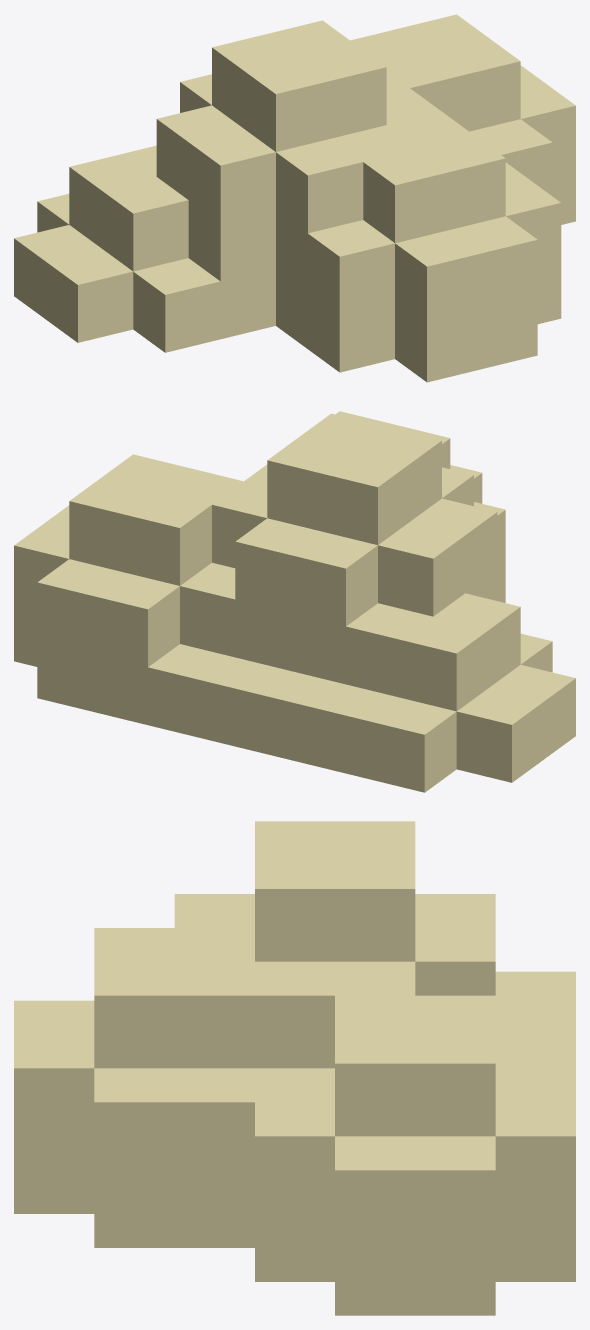
File: Medieval Assets-133-Decoration - Desert Rocks.obj
The picture shows the model from 3 angles, top to bottom: view 1: azimuth 30°, elevation 25°; view 2: azimuth 150°, elevation 25°; view 3: azimuth 270°, elevation 25°; orthographic projection. The views are drawn at different scales.
Visible parts, largest first — view 1: Decoration - Desert Rocks; view 2: Decoration - Desert Rocks; view 3: Decoration - Desert Rocks.
Boxes of the visible parts, <box> form: Decoration - Desert Rocks: <box>14,14,575,382</box>; Decoration - Desert Rocks: <box>14,411,575,792</box>; Decoration - Desert Rocks: <box>14,821,575,1315</box>.
Bounding box in the file's own units: 0.9 × 0.4 × 0.7.
1 material, 1 textured.
